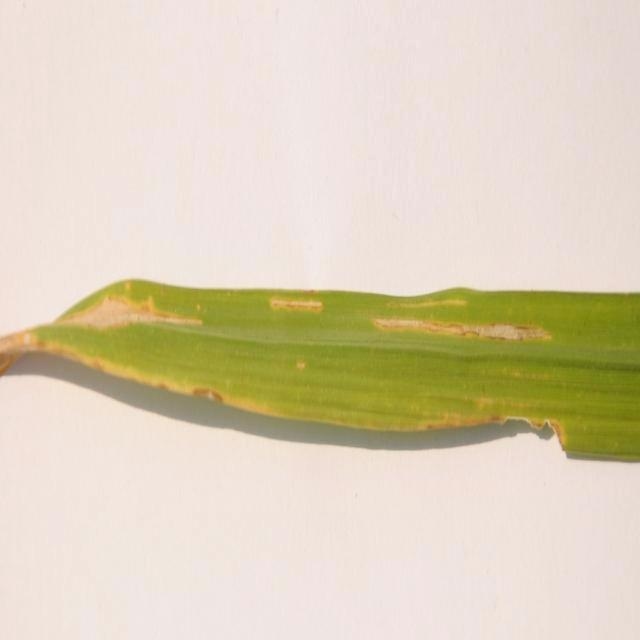bacterial_leaf_blight: (55, 296, 202, 328), (373, 319, 550, 340), (0, 332, 29, 374), (389, 299, 466, 307), (270, 298, 322, 309), (194, 389, 222, 401)
